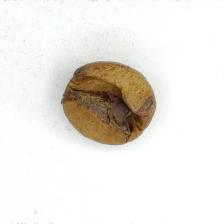NG: (70, 71, 149, 139)
